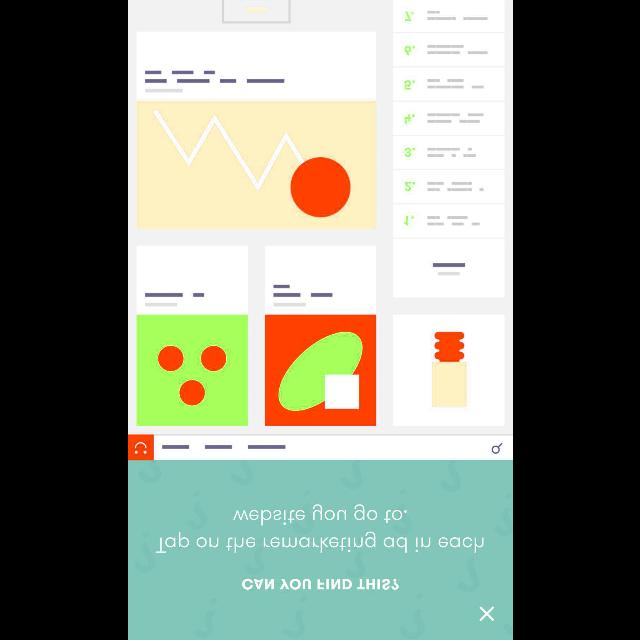backgroundimage: (128, 0, 512, 460)
icon: (478, 605, 494, 621)
text: (155, 504, 483, 554), (242, 578, 398, 590)
